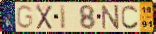8: (79, 4, 97, 31)
C: (121, 5, 140, 31)
G: (15, 5, 34, 30)
I: (59, 4, 67, 30)
N: (100, 4, 121, 30)
X: (35, 3, 54, 30)
